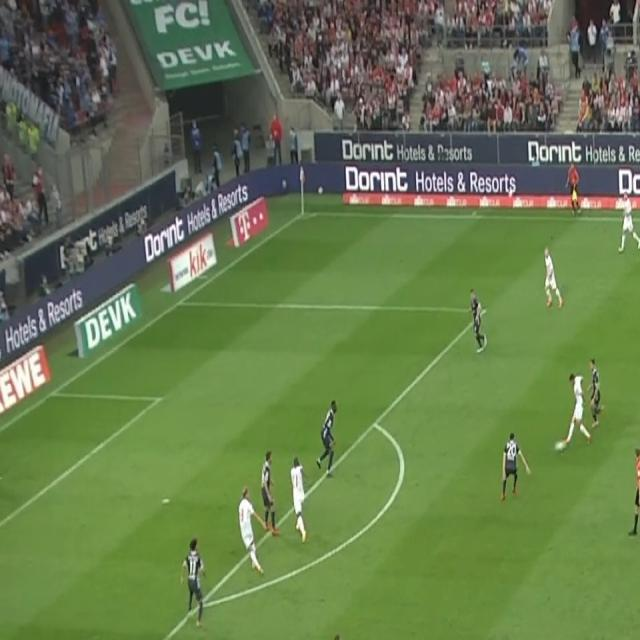ball: (554, 436, 566, 456)
